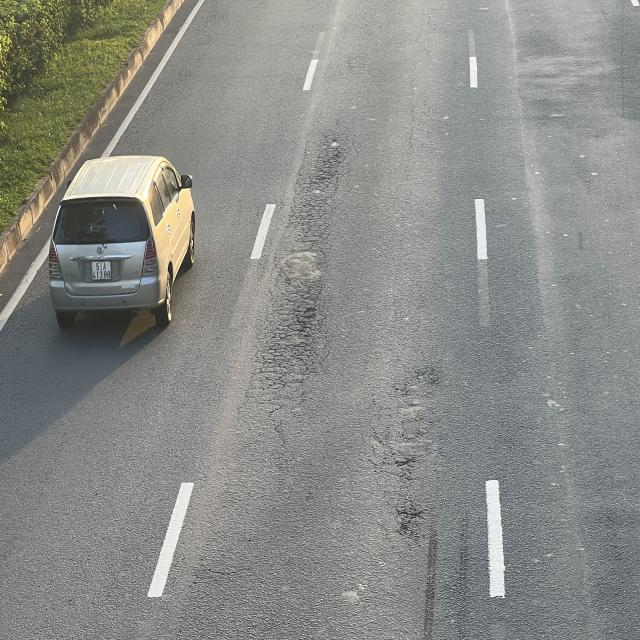car: (49, 152, 199, 328)
